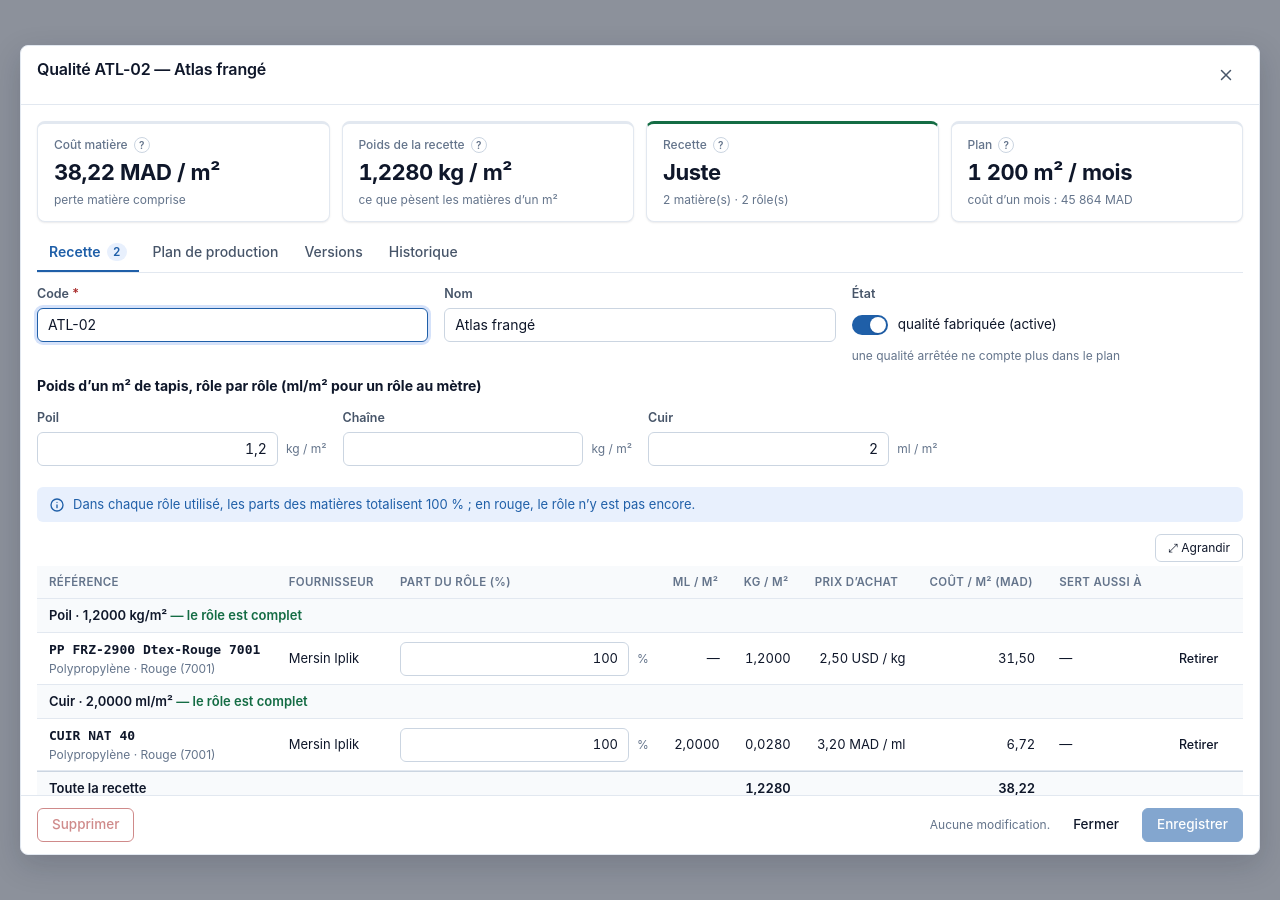
Test: Qualités › 409 : « Recharger la qualité »
Type " bis" into the field labelled "Nom" at point(640, 325), box left=444, top=308, right=836, bottom=342
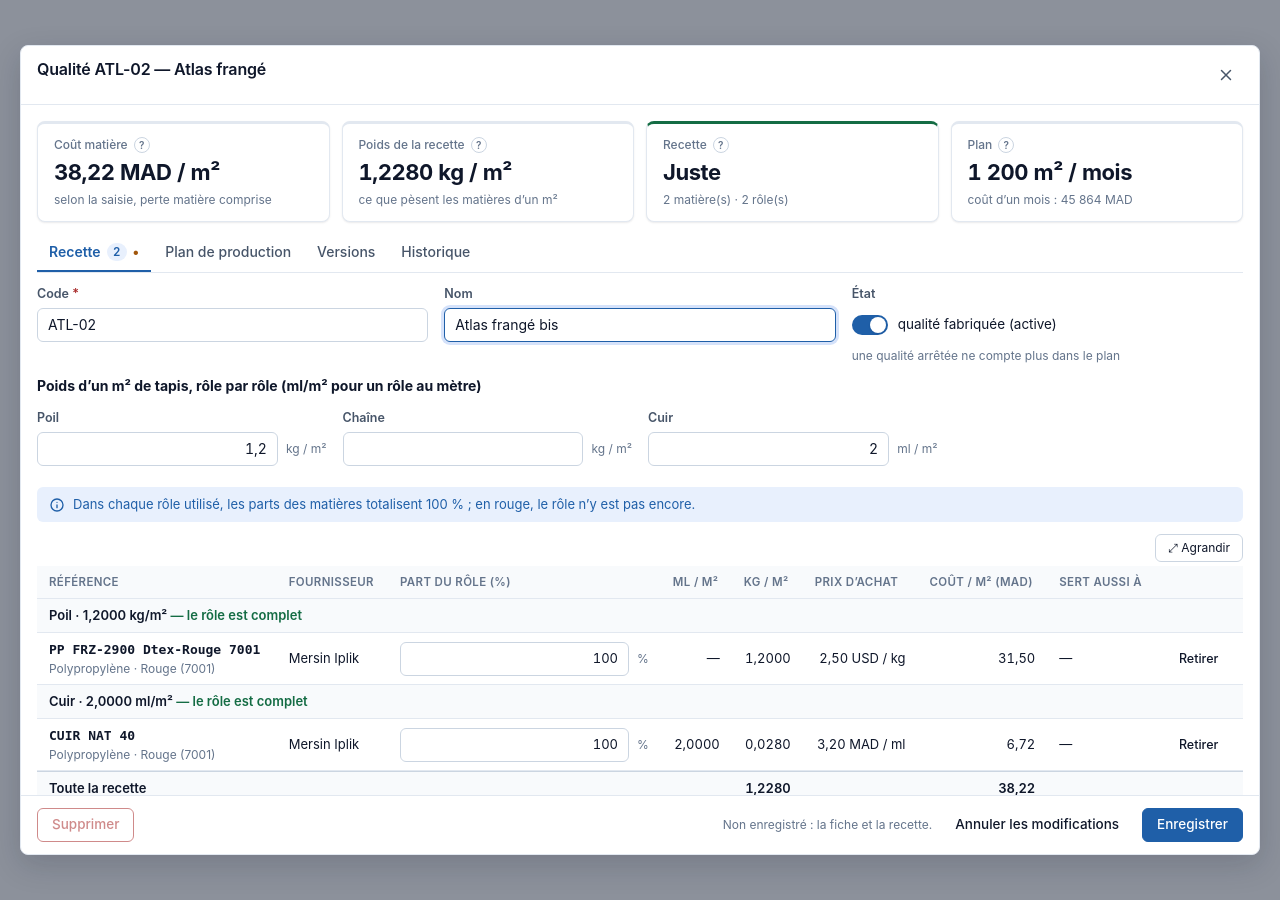
Click the button "Enregistrer" at point(1193, 825), box left=1142, top=808, right=1243, bottom=842
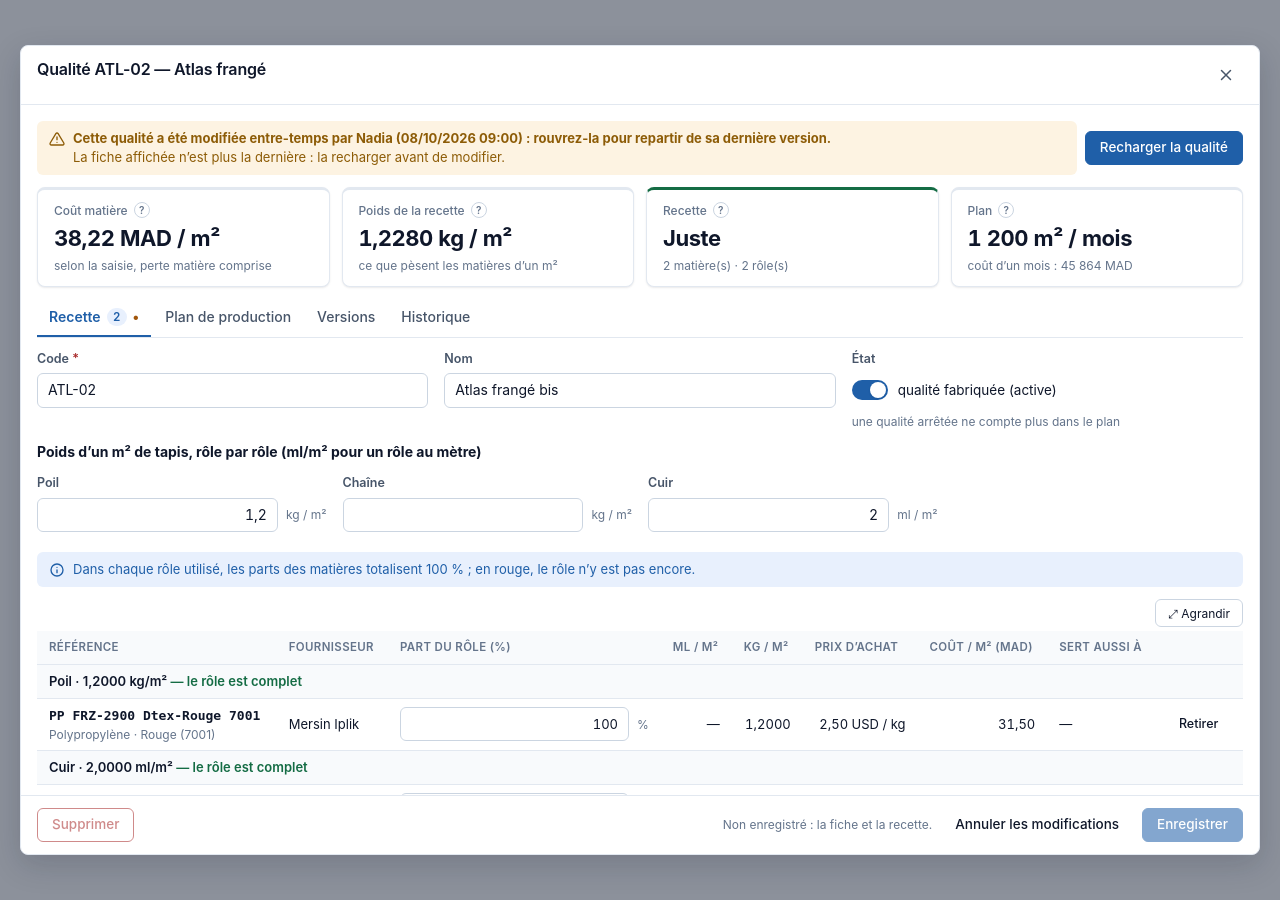
Now the text "modifiée entre-temps par Nadia" is shown, box left=73, top=130, right=831, bottom=146
Now the button "Recharger la qualité" is shown, box left=1085, top=131, right=1243, bottom=165
